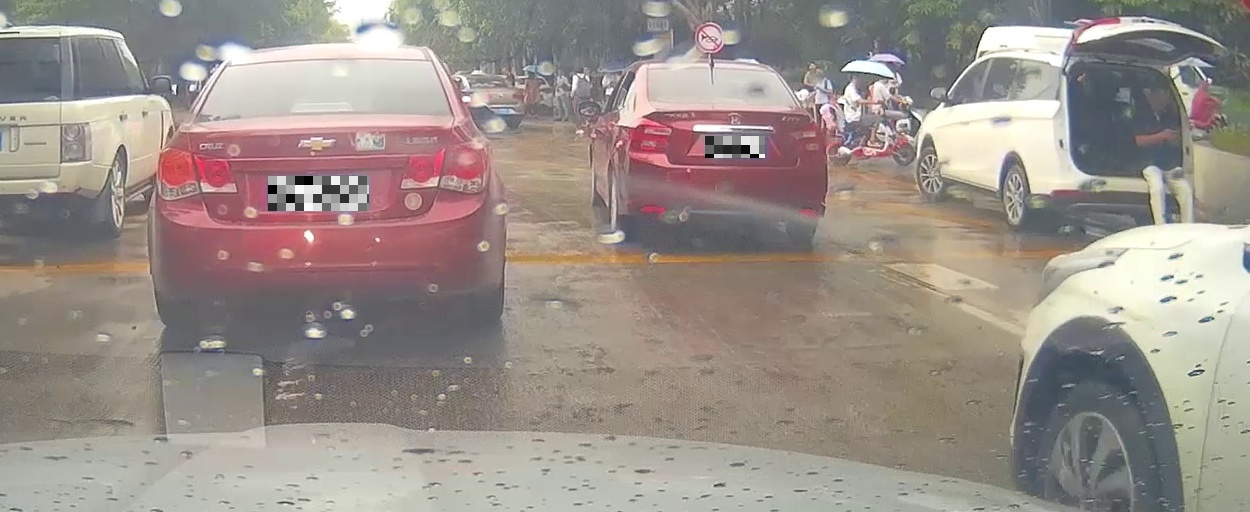L_light: (155, 145, 237, 203), (627, 118, 672, 151)
R_light: (398, 141, 489, 195), (788, 123, 826, 153)
T_light: (289, 101, 353, 113), (715, 98, 746, 105)
day-no: (147, 41, 507, 326), (619, 60, 828, 243)
plate_1: (268, 176, 369, 211)
plate_2: (705, 136, 765, 158)
